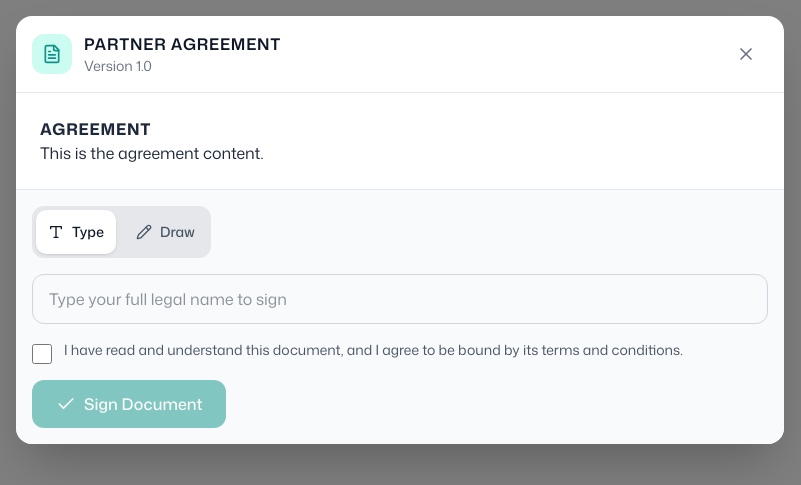
Test: DocumentViewer › Signing form › sign button is enabled when signature is provided and checkbox is checked
Type "John Doe" into the field with placeholder "Type your full legal name to sign" at (400, 299), box [32,274,768,324]
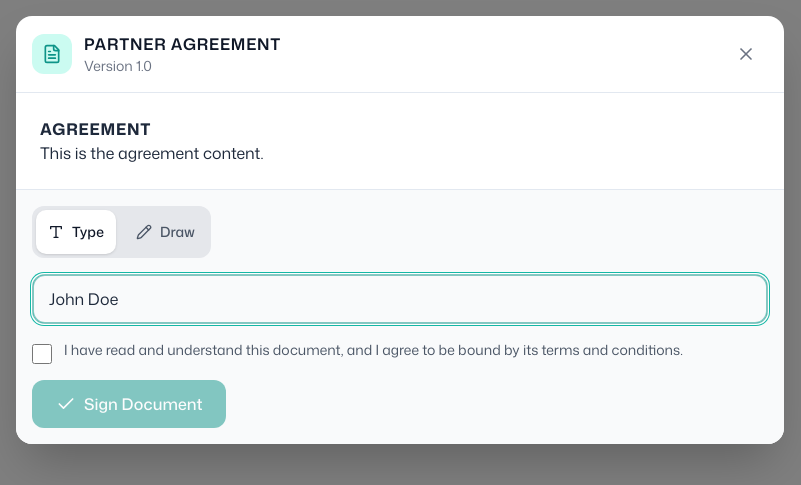
Click the checkbox at (42, 354), box [32,344,52,364]
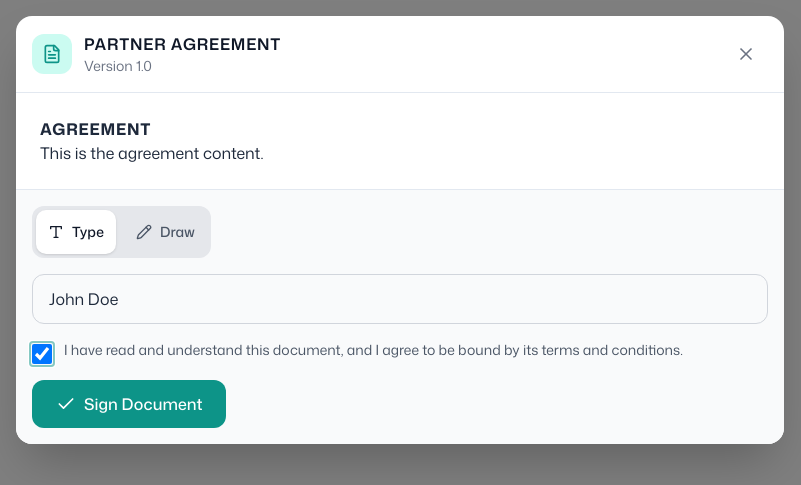
Expected: the button "Sign Document" is enabled, [32,380,226,428]
